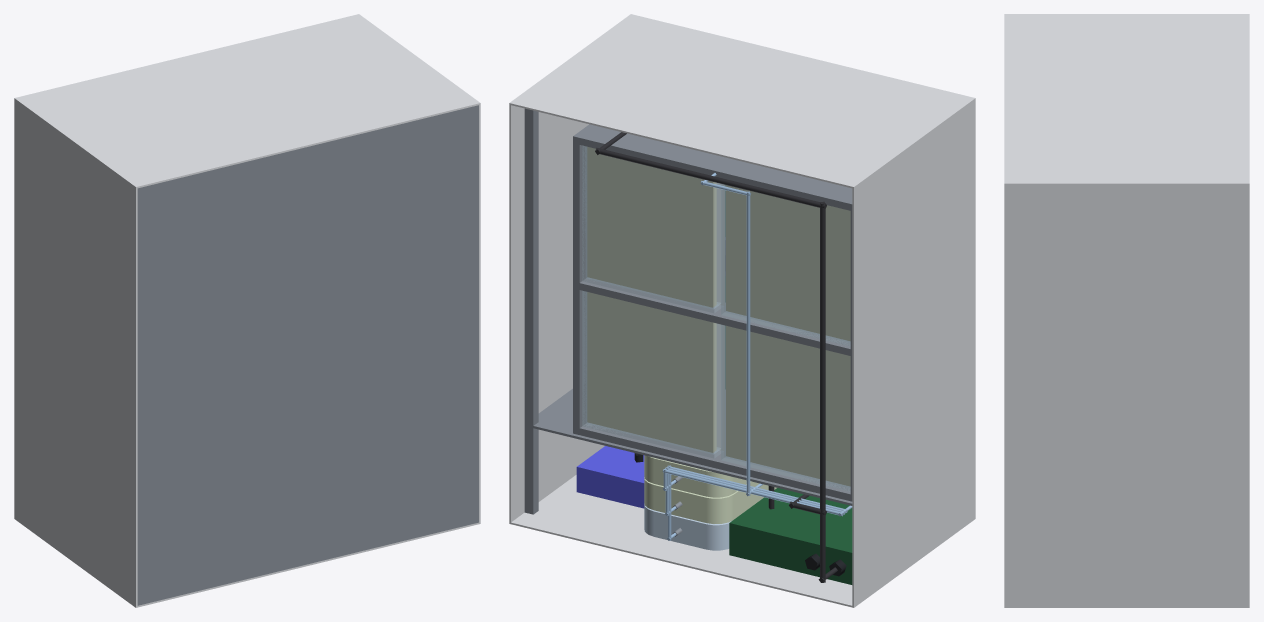
The model's file is MOD-plant-germination.glb.
3 renders of one model, left to right at view 1: azimuth 30°, elevation 25°; view 2: azimuth 150°, elevation 25°; view 3: azimuth 270°, elevation 25°, orthographic.
Visible parts, largest first — view 1: housing__back_panel_bay_interface, housing__side_panel_L, housing__top_panel, housing__bottom_panel, housing__side_panel_R; view 2: housing__side_panel_L, housing__top_panel, housing__side_panel_R, sample__seed_plate_2_120_x_120_mm_square_dish, sample__seed_plate_4_120_x_120_mm_square_dish, sample__seed_plate_2_agar, sample__seed_plate_1_120_x_120_mm_square_dish, sample__seed_plate_4_agar, sample__seed_plate_3_120_x_120_mm_square_dish, sample__seed_plate_1_agar, sample__seed_plate_3_agar, housing__bottom_panel (+17 smaller); view 3: housing__side_panel_R, housing__top_panel, housing__bottom_panel.
Part boxes in pixels (x1,y1,x2,y2): housing__back_panel_bay_interface: [137, 105, 478, 605]; housing__side_panel_L: [14, 100, 137, 605]; housing__top_panel: [14, 14, 480, 188]; housing__bottom_panel: [14, 517, 480, 607]; housing__side_panel_R: [479, 105, 480, 522]; housing__side_panel_L: [852, 100, 975, 605]; housing__top_panel: [509, 14, 975, 188]; housing__side_panel_R: [509, 105, 604, 522]; sample__seed_plate_2_120_x_120_mm_square_dish: [582, 291, 722, 458]; sample__seed_plate_4_120_x_120_mm_square_dish: [582, 145, 722, 312]; sample__seed_plate_2_agar: [587, 292, 716, 452]; sample__seed_plate_1_120_x_120_mm_square_dish: [721, 324, 850, 491]; sample__seed_plate_4_agar: [587, 147, 716, 307]; sample__seed_plate_3_120_x_120_mm_square_dish: [721, 184, 850, 346]; sample__seed_plate_1_agar: [726, 326, 850, 485]; sample__seed_plate_3_agar: [726, 185, 850, 340]; housing__bottom_panel: [509, 475, 975, 607]; housing__side_panel_R: [1004, 185, 1249, 606]; housing__top_panel: [1004, 14, 1249, 185]; housing__bottom_panel: [1004, 606, 1249, 607].
Size of the model in its own units: 0.313 by 0.3652 by 0.1913.
